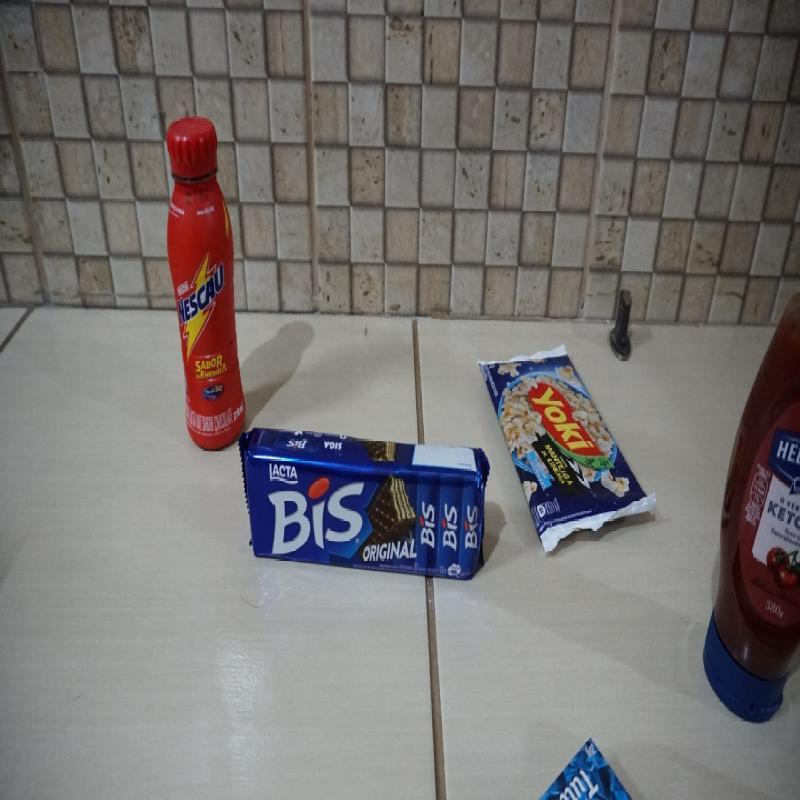Chocolate Milk: (157, 114, 247, 439)
Gelatine: (528, 731, 635, 798)
Ketchup: (703, 285, 800, 727)
Popcorn: (481, 344, 652, 555)
